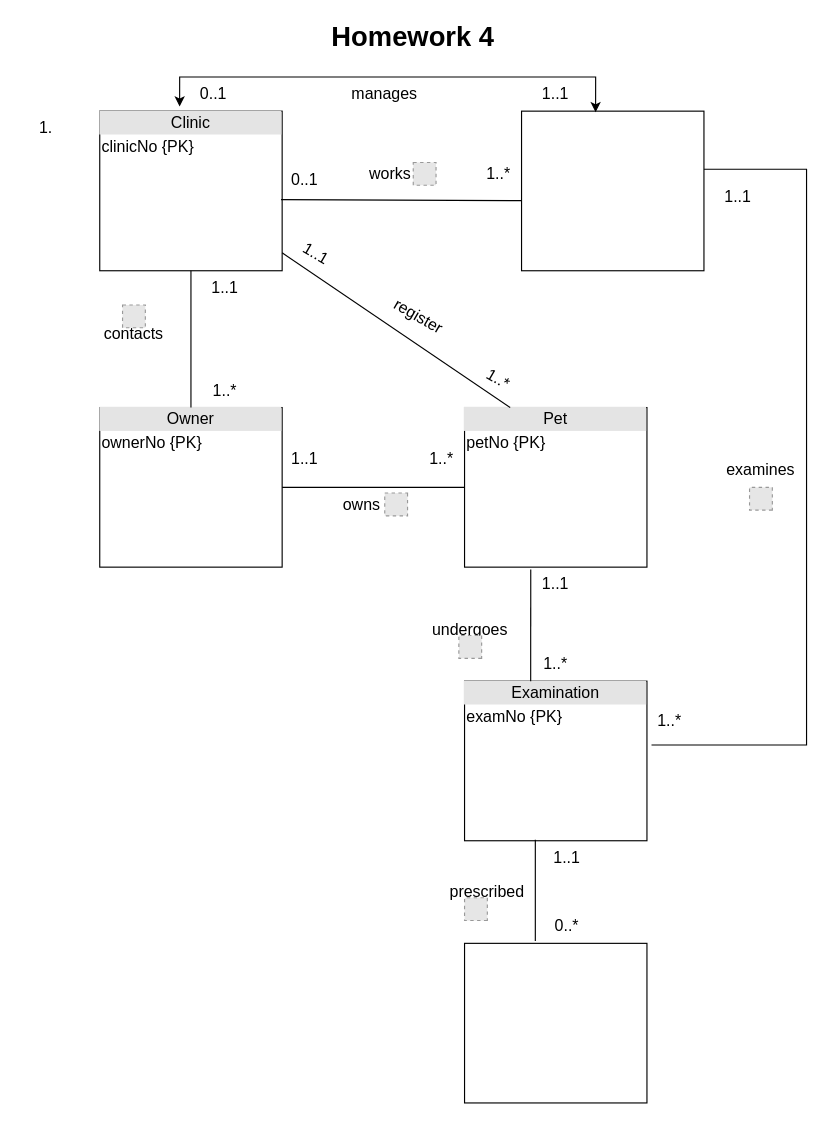
Some shapes in this 828 by 1123 pixel diagram are drawn without their labels. Grey dashed boxes stand in for pictures. Here are the shapes that lost their labels. From the top down, the centre of each, then its label:
At point (612, 190): "Staff staffNo {PK}".
At point (555, 1022): "Treatment treatNo {PK}".
